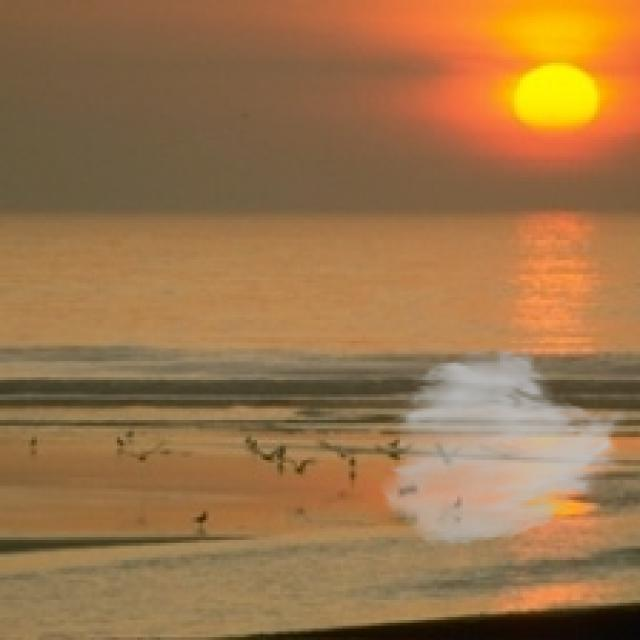smoke: (377, 346, 632, 548)
